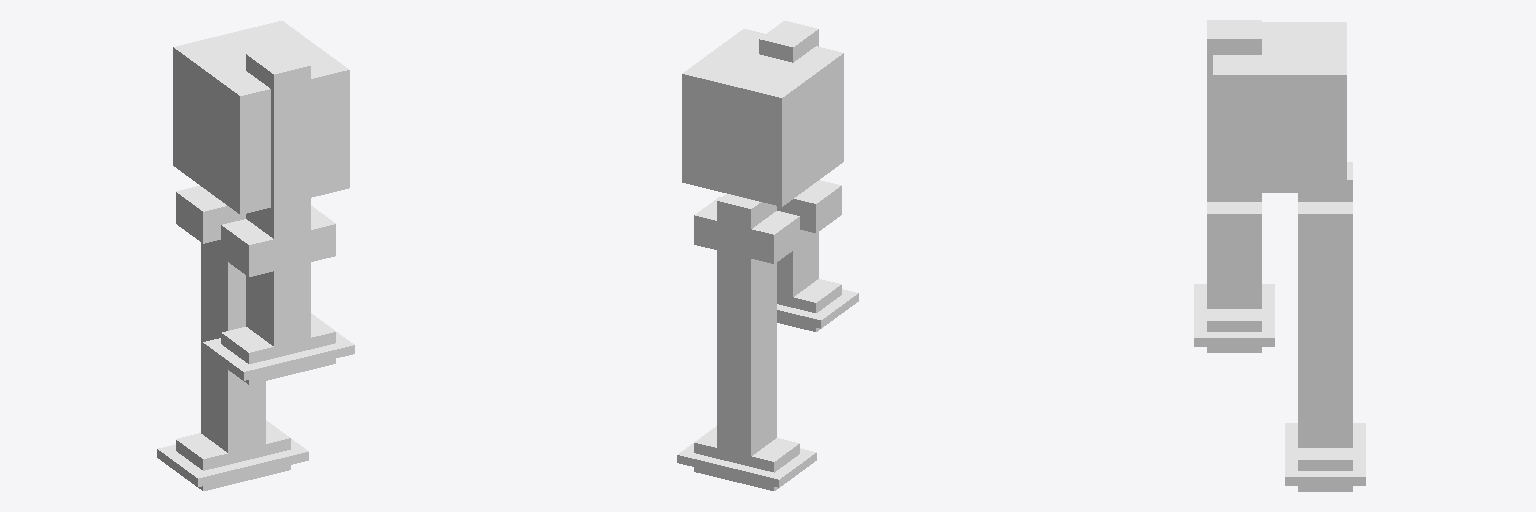
The robot description file, URDF, robot "darwinOP":
<?xml version="1.0" ?>
<robot name="darwinOP">
<link name="base_link"/>
  
  <joint name="base_link_to_body" type="fixed">
    <parent link="base_link"/>
    <child link="MP_BODY"/>
  </joint>



  <link name="MP_BODY">
    <inertial>
      <origin xyz="-0.003053 -0.038651 -0.019268" />
      <mass value="0.97559947"/>
      <inertia ixx="3.1081800"  ixy="-0.25460189"  ixz="2.0318174" iyy="6.3787776" iyz="0.16417863" izz="5.3316425" />
    </inertial>
    <visual>
      <!--origin xyz="-0.0235 0 -0.03525" rpy="0 0 0" /-->
      <origin xyz="0 0 0" rpy="0 0 0" />
      <geometry>
        <box size="0.102 0.109 0.106" />
      </geometry>
      <material name="Grey">
        <color rgba="1.00 1.00 1.00 1.0"/>
      </material>
    </visual>
    <collision>
      <geometry>
        <box size="0.102 0.109 0.106" />
      </geometry>
    </collision>
  </link>
  <link name="MP_PELVIS_L" >
    <inertial>
      <origin xyz="0.000000 0.000480 0.018437" />
      <mass value="0.167"/>
      <inertia ixx="0.12259691"  ixy="0.00071127469"  ixz="0.00081143913" iyx="0.00071127469" iyy="0.11066637" iyz="-0.0071635476" izx="0.00081143913" izy="-0.0071635476" izz="0.041877668" />
    </inertial>
    <visual>
      <origin xyz="0 0 0" rpy="0 0 0" />
      <geometry>
        <box size="0.045 0.08175 0.028652"/>
      </geometry>
      <material name="Grey">
        <color rgba="1.00 1.00 1.00 1.0"/>
      </material>
    </visual>
    <collision>
      <geometry>
        <box size="0.045 0.08175 0.028652"/>
      </geometry>
    </collision>
  </link>

  <link name="MP_THIGH1_L" >
    <inertial>
      <origin xyz="0.000079 0.018242 0.013873" />
      <mass value="0.11904336"/>
      <inertia ixx="0.097950272"  ixy="0.0012119368"  ixz="-0.00021223016" iyx="0.00122119368" iyy="0.032848287" iyz="-0.0019474021" izx="-0.00021223016" izy="-0.0019474021" izz="0.11493509" />
    </inertial>
    <visual>
      <origin xyz="0 0 0" rpy="0 0 0" />
      <geometry>
        <box size="0.001 0.001 0.001"/>
      </geometry>
      <material name="Grey">
        <color rgba="1.00 1.00 1.00 1.0"/>
      </material>
    </visual>
    <collision>
      <geometry>
        <box size="0.001 0.001 0.001"/>
      </geometry>
    </collision>
  </link>

  <link name="MP_THIGH2_L" >
    <inertial>
      <origin xyz="-0.062965 -0.000323 0.000692" />
      <mass value="0.11904336"/>
      <inertia ixx="0.097950272"  ixy="0.0012119368"  ixz="-0.00021223016" iyx="0.00122119368" iyy="0.032848287" iyz="-0.0019474021" izx="-0.00021223016" izy="-0.0019474021" izz="0.11493509" />
    </inertial>
    <visual>
      <origin xyz="0 0 0" rpy="0 0 0" />
      <geometry>
        <box size="0.125 0.035 0.045"/>
      </geometry>
      <material name="Grey">
        <color rgba="1.00 1.00 1.00 1.0"/>
      </material>
    </visual>
    <collision>
      <geometry>
        <box size="0.125 0.035 0.045"/>
      </geometry>
    </collision>
  </link>

  <link name="MP_TIBIA_L" >
    <inertial>
      <origin xyz="-0.053955 0.006548 -0.000592" />
      <mass value="0.070309794"/>
      <inertia ixx="0.093369608"  ixy="-0.00093567395"  ixz="-0.00023992085" iyx="-0.00093567395" iyy="0.046295534" iyz="-0.012858493" izx="-0.00023992085" izy="-0.012858493" izz="0.11351516" />
    </inertial>
    <visual>
      <origin xyz="-0.0625 0 0" rpy="0 0 0" />
      <geometry>
        <box size="0.130 0.035 0.045"/>
      </geometry>
      <material name="Grey">
        <color rgba="1.00 1.00 1.00 1.0"/>
      </material>
    </visual>
    <collision>
      <origin xyz="-0.0625 0 0" rpy="0 0 0" />
      <geometry>
        <box size="0.130 0.035 0.045"/>
      </geometry>
    </collision>
  </link>

  <link name="MP_ANKLE1_L" >
    <inertial>
      <origin xyz="-0.000214 -0.018536 0.013873" />
      <mass value="0.16710792"/>
      <inertia ixx="0.12079175"  ixy="-0.00079781067"  ixz="-0.00039322246" iyx="-0.00079781067" iyy="0.10885465" iyz="0.0070770117" izx="-0.00039322246" izy="0.0070770117" izz="0.041871103" />
    </inertial>
    <visual>
      <origin xyz="0 0 0" rpy="0 0 0" />
      <geometry>
        <box size="0.028652 0.08175 0.045"/>
      </geometry>
      <material name="Grey">
        <color rgba="1.00 1.00 1.00 1.0"/>
      </material>
    </visual>
    <collision>
      <geometry>
        <box size="0.028652 0.08175 0.045"/>
      </geometry>
    </collision>
  </link>

  <link name="MP_ANKLE2_L" >
    <inertial>
      <origin xyz="-0.025995 -0.009506 -0.000503" />
      <mass value="0.0794462"/>
      <inertia ixx="0.12079175"  ixy="-0.00079781067"  ixz="-0.00039322246" iyx="-0.00079781067" iyy="0.10885465" iyz="0.0070770117" izx="-0.00039322246" izy="0.0070770117" izz="0.041871103" />
    </inertial>
    <visual>
      <origin xyz="0 0 0" rpy="0 0 0" />
      <geometry>
        <box size="0.008 0.066 0.104"/>
      </geometry>
      <material name="Grey">
        <color rgba="1.00 1.00 1.00 1.0"/>
      </material>
    </visual>
    <collision>
      <geometry>
        <box size="0.008 0.066 0.104"/>
      </geometry>
    </collision>
  </link>

  <link name="MP_PELVIS_R" >
    <inertial>
      <origin xyz="0.000000 0.000480 0.018437" />
      <mass value="0.197"/>
      <inertia ixx="0.12259691"  ixy="0.00071127469"  ixz="0.00081143913" iyx="0.00071127469" iyy="0.11066637" iyz="-0.0071635476" izx="0.00081143913" izy="-0.0071635476" izz="0.041877668" />
    </inertial>
    <visual>
      <origin xyz="0 0 0" rpy="0 0 0" />
      <geometry>
        <box size="0.045 0.08175 0.028652" />
      </geometry>
      <material name="Grey">
        <color rgba="1.00 1.00 1.00 1.0"/>
      </material>
    </visual>
    <collision>
      <geometry>
        <box size="0.045 0.08175 0.028652" />
      </geometry>
    </collision>
  </link>

  <link name="MP_THIGH1_R" >
    <inertial>
      <origin xyz="0.000079 -0.018242 0.0138735" />
      <mass value="0.11904336"/>
      <inertia ixx="0.097950272"  ixy="0.0012119368"  ixz="-0.00021223016" iyx="0.00122119368" iyy="0.032848287" iyz="-0.0019474021" izx="-0.00021223016" izy="-0.0019474021" izz="0.11493509" />
    </inertial>
    <visual>
      <origin xyz="0 0 0" rpy="0 0 0" />
      <geometry>
        <box size="0.001 0.001 0.001"/>
      </geometry>
      <material name="Grey">
        <color rgba="1.00 1.00 1.00 1.0"/>
      </material>
    </visual>
    <collision>
      <geometry>
        <box size="0.001 0.001 0.001"/>
      </geometry>
    </collision>

  </link>

  <link name="MP_THIGH2_R" >
    <inertial>
      <origin xyz="0.062965 -0.000323 0.000692" />
      <mass value="0.11904336"/>
      <inertia ixx="0.097950272"  ixy="0.0012119368"  ixz="-0.00021223016" iyx="0.00122119368" iyy="0.032848287" iyz="-0.0019474021" izx="-0.00021223016" izy="-0.0019474021" izz="0.11493509" />
    </inertial>
    <visual>
      <origin xyz="0 0 0" rpy="0 0 0" />
      <geometry>
        <box size="0.125 0.035 0.045"/>
      </geometry>
      <material name="Grey">
        <color rgba="1.00 1.00 1.00 1.0"/>
      </material>
    </visual>
    <collision>
      <geometry>
        <box size="0.125 0.035 0.045"/>
      </geometry>
    </collision>

  </link>

  <link name="MP_TIBIA_R" >
    <inertial>
      <origin xyz="0.053955 0.006548 -0.000592" />
      <mass value="0.070309794"/>
      <inertia ixx="0.093369608"  ixy="-0.00093567395"  ixz="-0.00023992085" iyx="-0.00093567395" iyy="0.046295534" iyz="-0.012858493" izx="-0.00023992085" izy="-0.012858493" izz="0.11351516" />
    </inertial>
    <visual>
      <origin xyz="-0.0625 0 0" rpy="0 0 0" />
      <geometry>
        <box size="0.130 0.035 0.045"/>
      </geometry>
      <material name="Grey">
        <color rgba="1.00 1.00 1.00 1.0"/>
      </material>
    </visual>
    <collision>
    <origin xyz="-0.0625 0 0" rpy="0 0 0" />
      <geometry>
        <box size="0.130 0.035 0.045"/>
      </geometry>
    </collision>

  </link>

  <link name="MP_ANKLE1_R" >
    <inertial>
      <origin xyz="-0.000214 -0.018536 -0.013873" />
      <mass value="0.16710792"/>
      <inertia ixx="0.12079175"  ixy="-0.00079781067"  ixz="-0.00039322246" iyx="-0.00079781067" iyy="0.10885465" iyz="0.0070770117" izx="-0.00039322246" izy="0.0070770117" izz="0.041871103" />
    </inertial>
    <visual>
      <origin xyz="0 0 0" rpy="0 0 0" />
      <geometry>
        <box size="0.028652 0.08175 0.045"/>
      </geometry>
      <material name="Grey">
        <color rgba="1.00 1.00 1.00 1.0"/>
      </material>
    </visual>
    <collision>
      <geometry>
        <box size="0.028652 0.08175 0.045"/>
      </geometry>
    </collision>

  </link>

  <link name="MP_ANKLE2_R" >
    <inertial>
      <origin xyz="0.025995 -0.009506 -0.000503" />
      <mass value="0.0794462"/>
      <inertia ixx="0.12079175"  ixy="-0.00079781067"  ixz="-0.00039322246" iyx="-0.00079781067" iyy="0.10885465" iyz="0.0070770117" izx="-0.00039322246" izy="0.0070770117" izz="0.041871103" />
    </inertial>
    <visual>
      <origin xyz="0 0 0" rpy="0 0 0" />
      <geometry>
        <box size="0.008 0.066 0.104"/>
      </geometry>
      <material name="Grey">
        <color rgba="1.00 1.00 1.00 1.0"/>
      </material>
    </visual>
    <collision>
      <geometry>
        <box size="0.008 0.066 0.104"/>
      </geometry>
    </collision>

  </link>
  
  <joint name="j_pelvis_l" type="revolute">
    <parent link="MP_BODY"/>
    <child link="MP_PELVIS_L"/>
    <origin xyz="-0.005 0.037 -0.09355" rpy="0 3.14159 -1.5707963" />
    <axis xyz="0 0 1" />
    <limit effort="10" velocity="5.6548668" lower="-2.6179939" upper="2.6179939" />
  </joint>
    <joint name="j_thigh1_l" type="revolute">
    <parent link="MP_PELVIS_L"/>
    <child link="MP_THIGH1_L"/>
    <origin xyz="0 0 0.028652" rpy="1.5707963 0 0" />
    <axis xyz="0 0 1" />
    <limit effort="10" velocity="5.6548668" lower="-2.6179939" upper="2.6179939" />
  </joint>

  <joint name="j_thigh2_l" type="revolute">
    <parent link="MP_THIGH1_L"/>
    <child link="MP_THIGH2_L"/>
    <origin xyz="0 0 0" rpy="1.5707963 0 -1.5707963" />
    <axis xyz="0 0 1" />
    <limit effort="10" velocity="5.6548668" lower="-2.6179939" upper="2.6179939" />
  </joint>

  <joint name="j_tibia_l" type="revolute">
    <parent link="MP_THIGH2_L"/>
    <child link="MP_TIBIA_L"/>
    <origin xyz="-0.0625 0 0" rpy="0 0 0" />
    <axis xyz="0 0 1" />
    <limit effort="10" velocity="5.6548668" lower="-2.6179939" upper="2.6179939" />
  </joint>

  <joint name="j_ankle1_l" type="revolute">
    <parent link="MP_TIBIA_L"/>
    <child link="MP_ANKLE1_L"/>
    <origin xyz="-0.130 0 0" rpy="3.14159 0 0" />
    <axis xyz="0 0 1" />
    <limit effort="10" velocity="5.6548668" lower="-2.6179939" upper="2.6179939" />
  </joint>

  <joint name="j_ankle2_l" type="revolute">
    <parent link="MP_ANKLE1_L"/>
    <child link="MP_ANKLE2_L"/>
    <origin xyz="0 0 0" rpy="-1.5707963 0 0" />
    <axis xyz="0 0 1" />
    <limit effort="10" velocity="5.6548668" lower="-2.6179939" upper="2.6179939" />
  </joint>

  <joint name="j_pelvis_r" type="revolute">
    <parent link="MP_BODY"/>
    <child link="MP_PELVIS_R"/>
    <origin xyz="-0.005 -0.037 -0.09355" rpy="0 3.14159 1.5707963" />
    <axis xyz="0 0 1" />
    <limit effort="10" velocity="5.6548668" lower="-2.6179939" upper="2.6179939" />
  </joint>

  <joint name="j_thigh1_r" type="revolute">
    <parent link="MP_PELVIS_R"/>
    <child link="MP_THIGH1_R"/>
    <origin xyz="0 0 0.028652" rpy="-1.5707963 0 0" />
    <axis xyz="0 0 1" />
    <limit effort="10" velocity="5.6548668" lower="-2.6179939" upper="2.6179939" />
  </joint>

  <joint name="j_thigh2_r" type="revolute">
    <parent link="MP_THIGH1_R"/>
    <child link="MP_THIGH2_R"/>
    <origin xyz="0 0 0" rpy="1.5707963 0 -1.5707963" />
    <axis xyz="0 0 1" />
    <limit effort="10" velocity="5.6548668" lower="-2.6179939" upper="2.6179939" />
  </joint>

  <joint name="j_tibia_r" type="revolute">
    <parent link="MP_THIGH2_R"/>
    <child link="MP_TIBIA_R"/>
    <origin xyz="-0.0625 0 0" rpy="0 0 0" />
    <axis xyz="0 0 1" />
    <limit effort="10" velocity="5.6548668" lower="-2.6179939" upper="2.6179939" />
  </joint>

  <joint name="j_ankle1_r" type="revolute">
    <parent link="MP_TIBIA_R"/>
    <child link="MP_ANKLE1_R"/>
    <origin xyz="0.130 0 0" rpy="3.14159 0 0" />
    <axis xyz="0 0 1" />
    <limit effort="10" velocity="5.6548668" lower="-2.6179939" upper="2.6179939" />
  </joint>

  <joint name="j_ankle2_r" type="revolute">
    <parent link="MP_ANKLE1_R"/>
    <child link="MP_ANKLE2_R"/>
    <origin xyz="0 0 0" rpy="-1.5707963 0 0" />
    <axis xyz="0 0 1" />
    <limit effort="10" velocity="5.6548668" lower="-2.6179939" upper="2.6179939" />
  </joint>

</robot>

--- Render facts (derived) ---
3 views of the same robot in one strip: view 1: azimuth 30°, elevation 25°; view 2: azimuth 150°, elevation 25°; view 3: azimuth 270°, elevation 25° (orthographic).
Robot: darwinOP — 14 links, 13 joints (12 revolute, 1 fixed); root link base_link; default pose: all joints at 0.
Visible links, largest first — view 1: MP_BODY, MP_TIBIA_R, MP_THIGH2_R, MP_TIBIA_L, MP_PELVIS_R, MP_THIGH2_L, MP_ANKLE1_R, MP_ANKLE2_R, MP_ANKLE2_L, MP_ANKLE1_L, MP_PELVIS_L; view 2: MP_BODY, MP_TIBIA_L, MP_THIGH2_L, MP_PELVIS_L, MP_ANKLE1_L, MP_ANKLE2_L, MP_THIGH2_R, MP_PELVIS_R, MP_TIBIA_R, MP_ANKLE1_R, MP_ANKLE2_R; view 3: MP_BODY, MP_TIBIA_L, MP_THIGH2_L, MP_THIGH2_R, MP_TIBIA_R, MP_ANKLE2_L, MP_ANKLE2_R, MP_PELVIS_L, MP_PELVIS_R, MP_ANKLE1_L, MP_ANKLE1_R.
Link boxes in pixels (left/top/right/bottom): MP_BODY: left=173, top=21, right=349, bottom=214; MP_TIBIA_R: left=246, top=45, right=310, bottom=219; MP_THIGH2_R: left=246, top=208, right=310, bottom=352; MP_TIBIA_L: left=201, top=304, right=265, bottom=464; MP_PELVIS_R: left=221, top=206, right=335, bottom=276; MP_THIGH2_L: left=201, top=208, right=245, bottom=322; MP_ANKLE1_R: left=221, top=313, right=335, bottom=384; MP_ANKLE2_R: left=203, top=315, right=354, bottom=380; MP_ANKLE2_L: left=157, top=422, right=308, bottom=486; MP_ANKLE1_L: left=176, top=420, right=290, bottom=490; MP_PELVIS_L: left=176, top=186, right=245, bottom=243; MP_BODY: left=682, top=29, right=843, bottom=206; MP_TIBIA_L: left=717, top=317, right=776, bottom=461; MP_THIGH2_L: left=717, top=194, right=776, bottom=337; MP_PELVIS_L: left=694, top=197, right=799, bottom=263; MP_ANKLE1_L: left=694, top=426, right=799, bottom=490; MP_ANKLE2_L: left=677, top=430, right=816, bottom=487; MP_THIGH2_R: left=777, top=230, right=818, bottom=306; MP_PELVIS_R: left=777, top=180, right=841, bottom=233; MP_TIBIA_R: left=759, top=21, right=818, bottom=62; MP_ANKLE1_R: left=777, top=279, right=841, bottom=331; MP_ANKLE2_R: left=777, top=289, right=858, bottom=328; MP_BODY: left=1213, top=22, right=1346, bottom=192; MP_TIBIA_L: left=1298, top=316, right=1352, bottom=447; MP_THIGH2_L: left=1298, top=162, right=1352, bottom=318; MP_THIGH2_R: left=1207, top=183, right=1261, bottom=308; MP_TIBIA_R: left=1207, top=20, right=1261, bottom=182; MP_ANKLE2_L: left=1285, top=423, right=1365, bottom=485; MP_ANKLE2_R: left=1194, top=284, right=1274, bottom=346; MP_PELVIS_L: left=1298, top=202, right=1352, bottom=245; MP_PELVIS_R: left=1207, top=202, right=1261, bottom=245; MP_ANKLE1_L: left=1298, top=448, right=1352, bottom=491; MP_ANKLE1_R: left=1207, top=309, right=1261, bottom=352.
Bounding box of the posed robot: 0.108 × 0.14 × 0.3968 m (x, y, z).
Geometry: primitives only (box / cylinder / sphere), no mesh files.